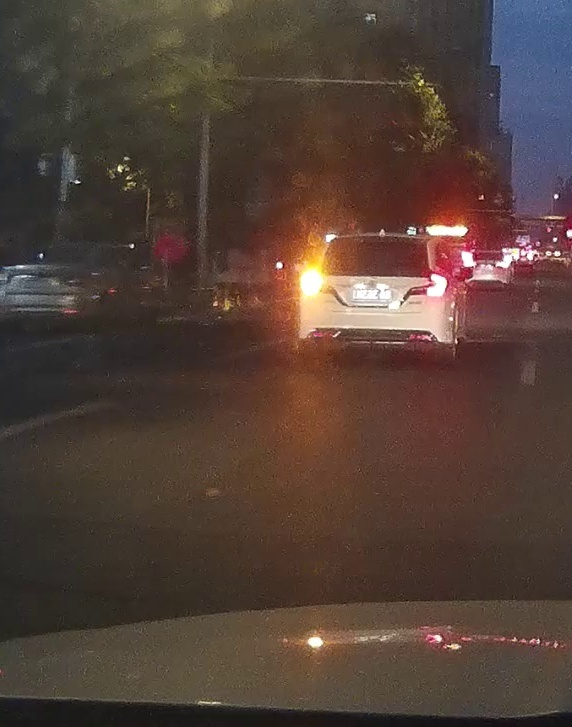L_light: (300, 272, 334, 294)
R_light: (410, 274, 447, 296)
T_light: (368, 236, 393, 243)
night-left: (299, 233, 448, 362)
